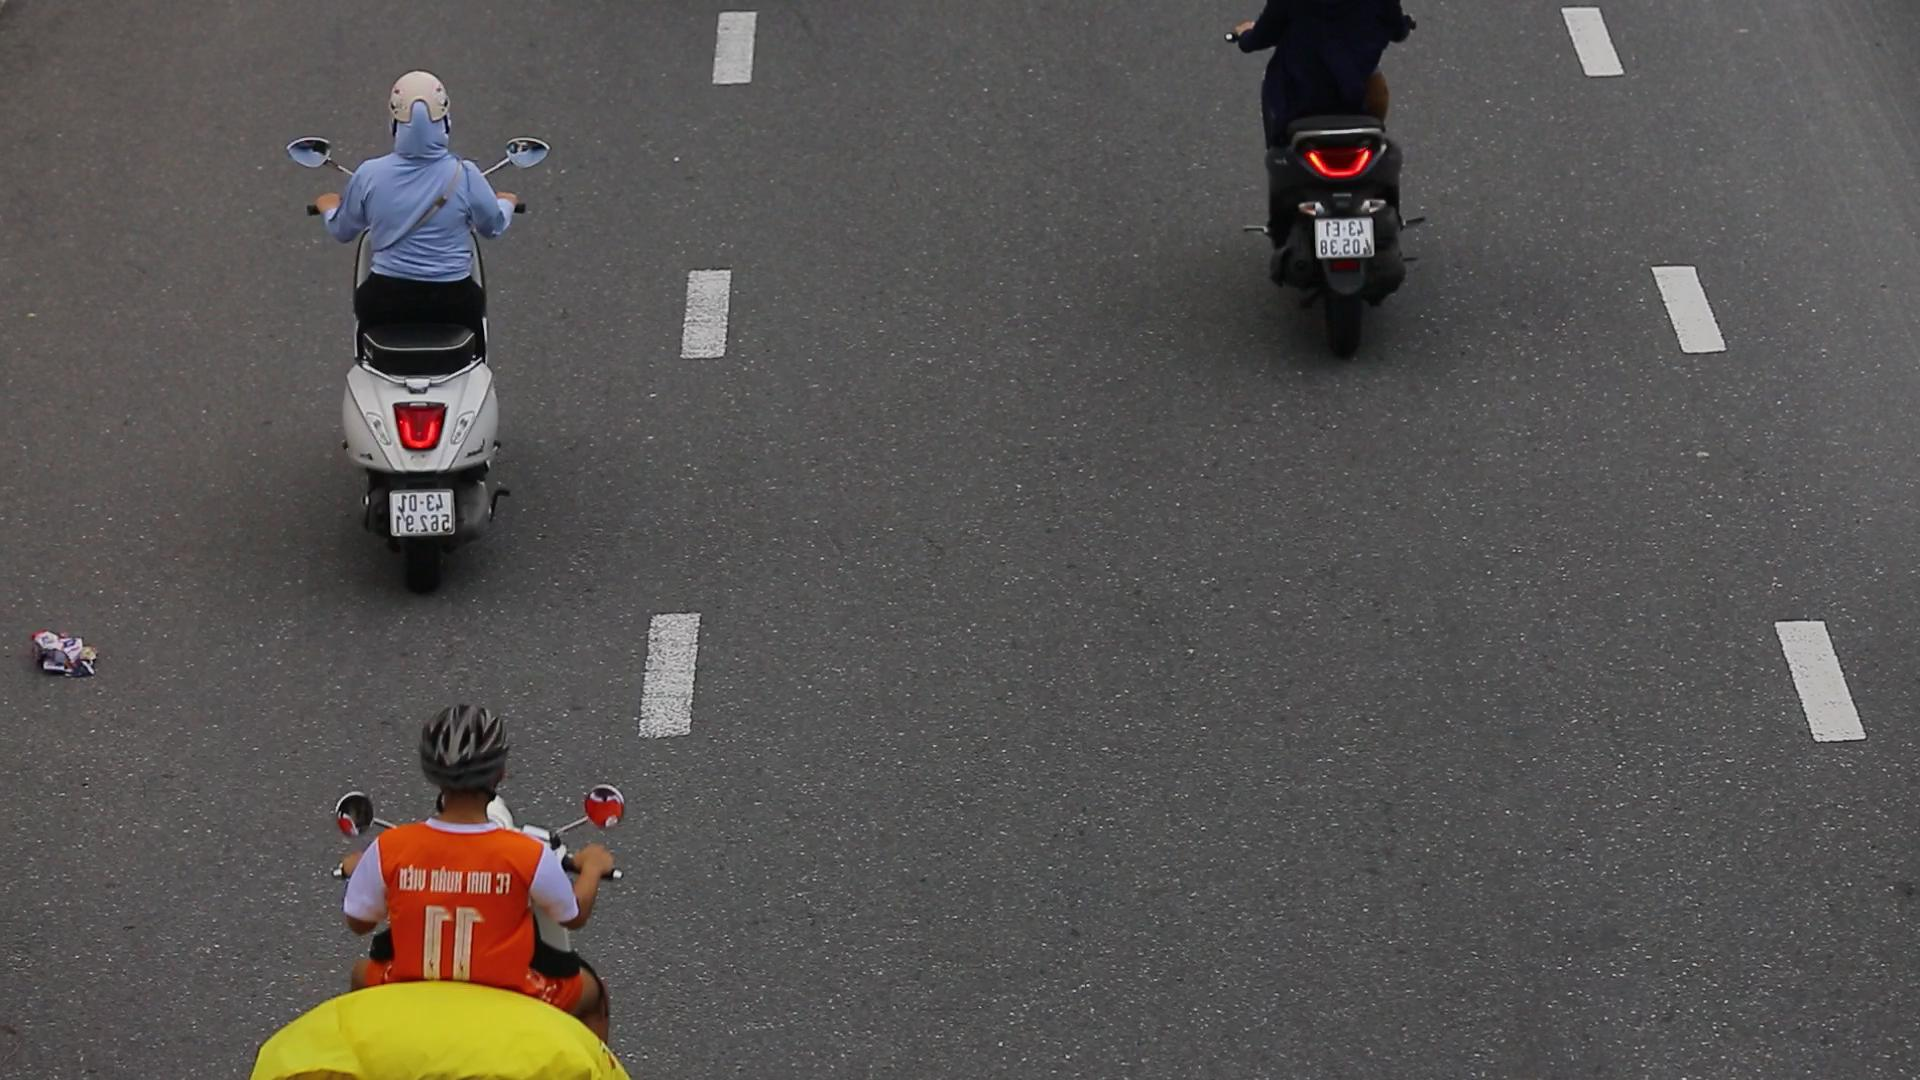motobike: (273, 50, 556, 605)
